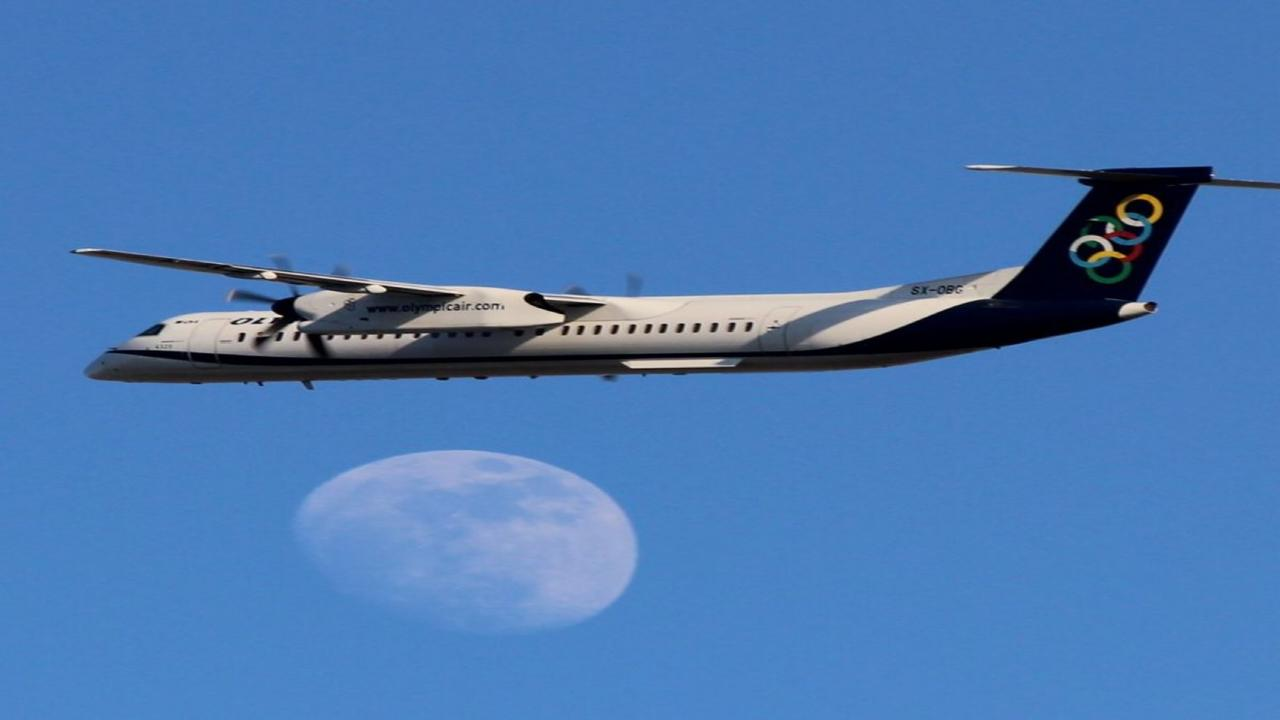Airplane: (44, 145, 1280, 403)
